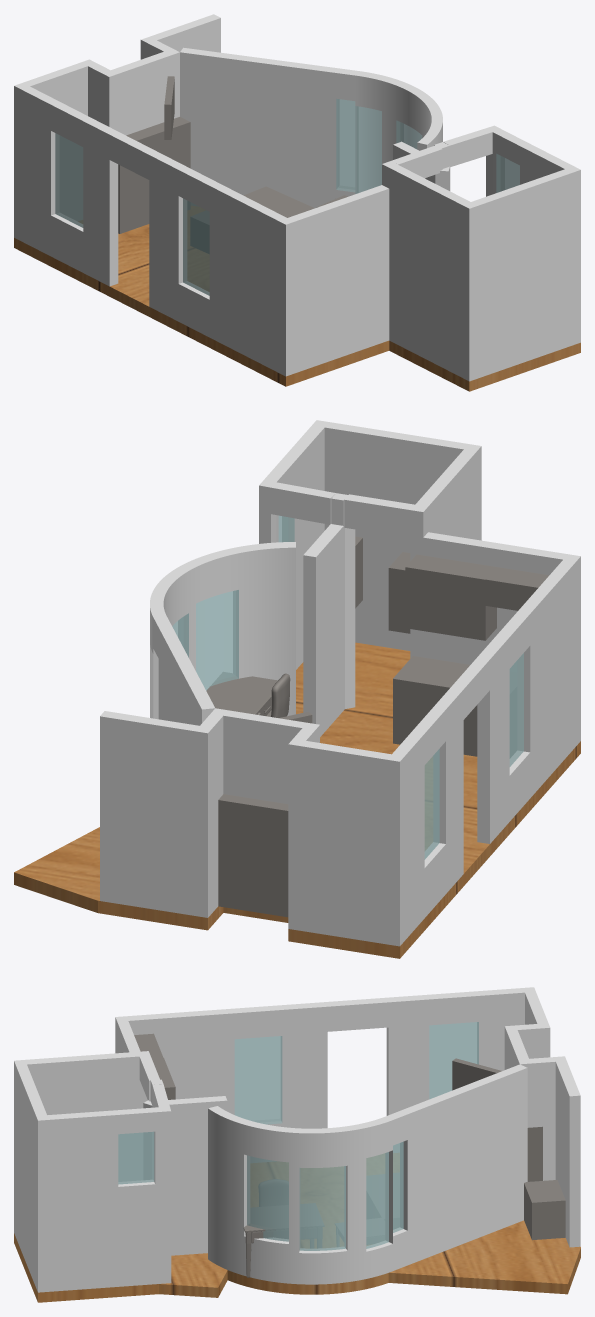
File: Jan 5, File 3.glb
3 renders of one model, top to bottom at view 1: azimuth 30°, elevation 25°; view 2: azimuth 150°, elevation 25°; view 3: azimuth 270°, elevation 25°, orthographic. The views are drawn at different scales.
Visible parts, largest first — view 1: Node31, Node28, Node24, Node25, Node12, Node33, Node36, Node26, Node30, Node23, Node14, Node1 (+11 smaller); view 2: Node31, Node23, Node33, Node20, Node36, Node24, Node14, Node16, Node17, Node25, Node26, Node22 (+14 smaller); view 3: Node31, Node28, Node30, Node36, Node33, Node12, Node16, Node24, Node4, Node20, Node34, Node35 (+21 smaller).
Boxes of the visible parts, box(x1,y1,x2,y2) form: Node31: box(14, 83, 286, 372); Node28: box(180, 47, 358, 208); Node24: box(462, 169, 572, 381); Node25: box(278, 185, 389, 376); Node12: box(382, 161, 470, 377); Node33: box(14, 206, 580, 391); Node36: box(355, 71, 442, 193); Node26: box(102, 50, 179, 135); Node30: box(492, 129, 580, 345); Node23: box(23, 59, 96, 220); Node14: box(118, 117, 190, 233); Node1: box(55, 133, 83, 227); Node31: box(387, 559, 576, 946); Node23: box(288, 739, 391, 944); Node33: box(14, 642, 580, 958); Node20: box(100, 711, 199, 915); Node36: box(150, 542, 295, 719); Node24: box(324, 422, 481, 650); Node14: box(218, 794, 288, 917); Node16: box(303, 524, 344, 736); Node17: box(405, 554, 496, 640); Node25: box(423, 532, 580, 745); Node26: box(213, 708, 319, 803); Node22: box(195, 708, 227, 917); Node31: box(126, 987, 535, 1162); Node28: box(385, 1064, 527, 1270); Node30: box(36, 1107, 160, 1292); Node36: box(208, 1106, 392, 1284); Node33: box(14, 1153, 580, 1302); Node12: box(25, 1051, 150, 1181); Node16: box(168, 1096, 227, 1255); Node24: box(14, 1060, 46, 1286); Node4: box(234, 1036, 282, 1124); Node20: box(555, 1061, 580, 1247); Node34: box(299, 1166, 345, 1250); Node35: box(247, 1155, 288, 1241).
Size of what is drawn, in the model's own units: 5.2 by 2.86 by 8.07.
39 materials, 1 textured.
